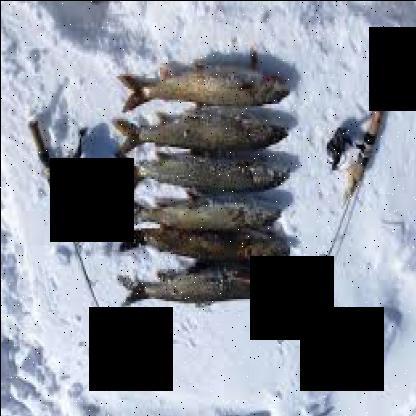fish: (115, 57, 292, 119), (108, 102, 296, 160), (111, 256, 291, 314), (114, 148, 294, 200), (113, 224, 288, 264), (111, 196, 289, 232)
